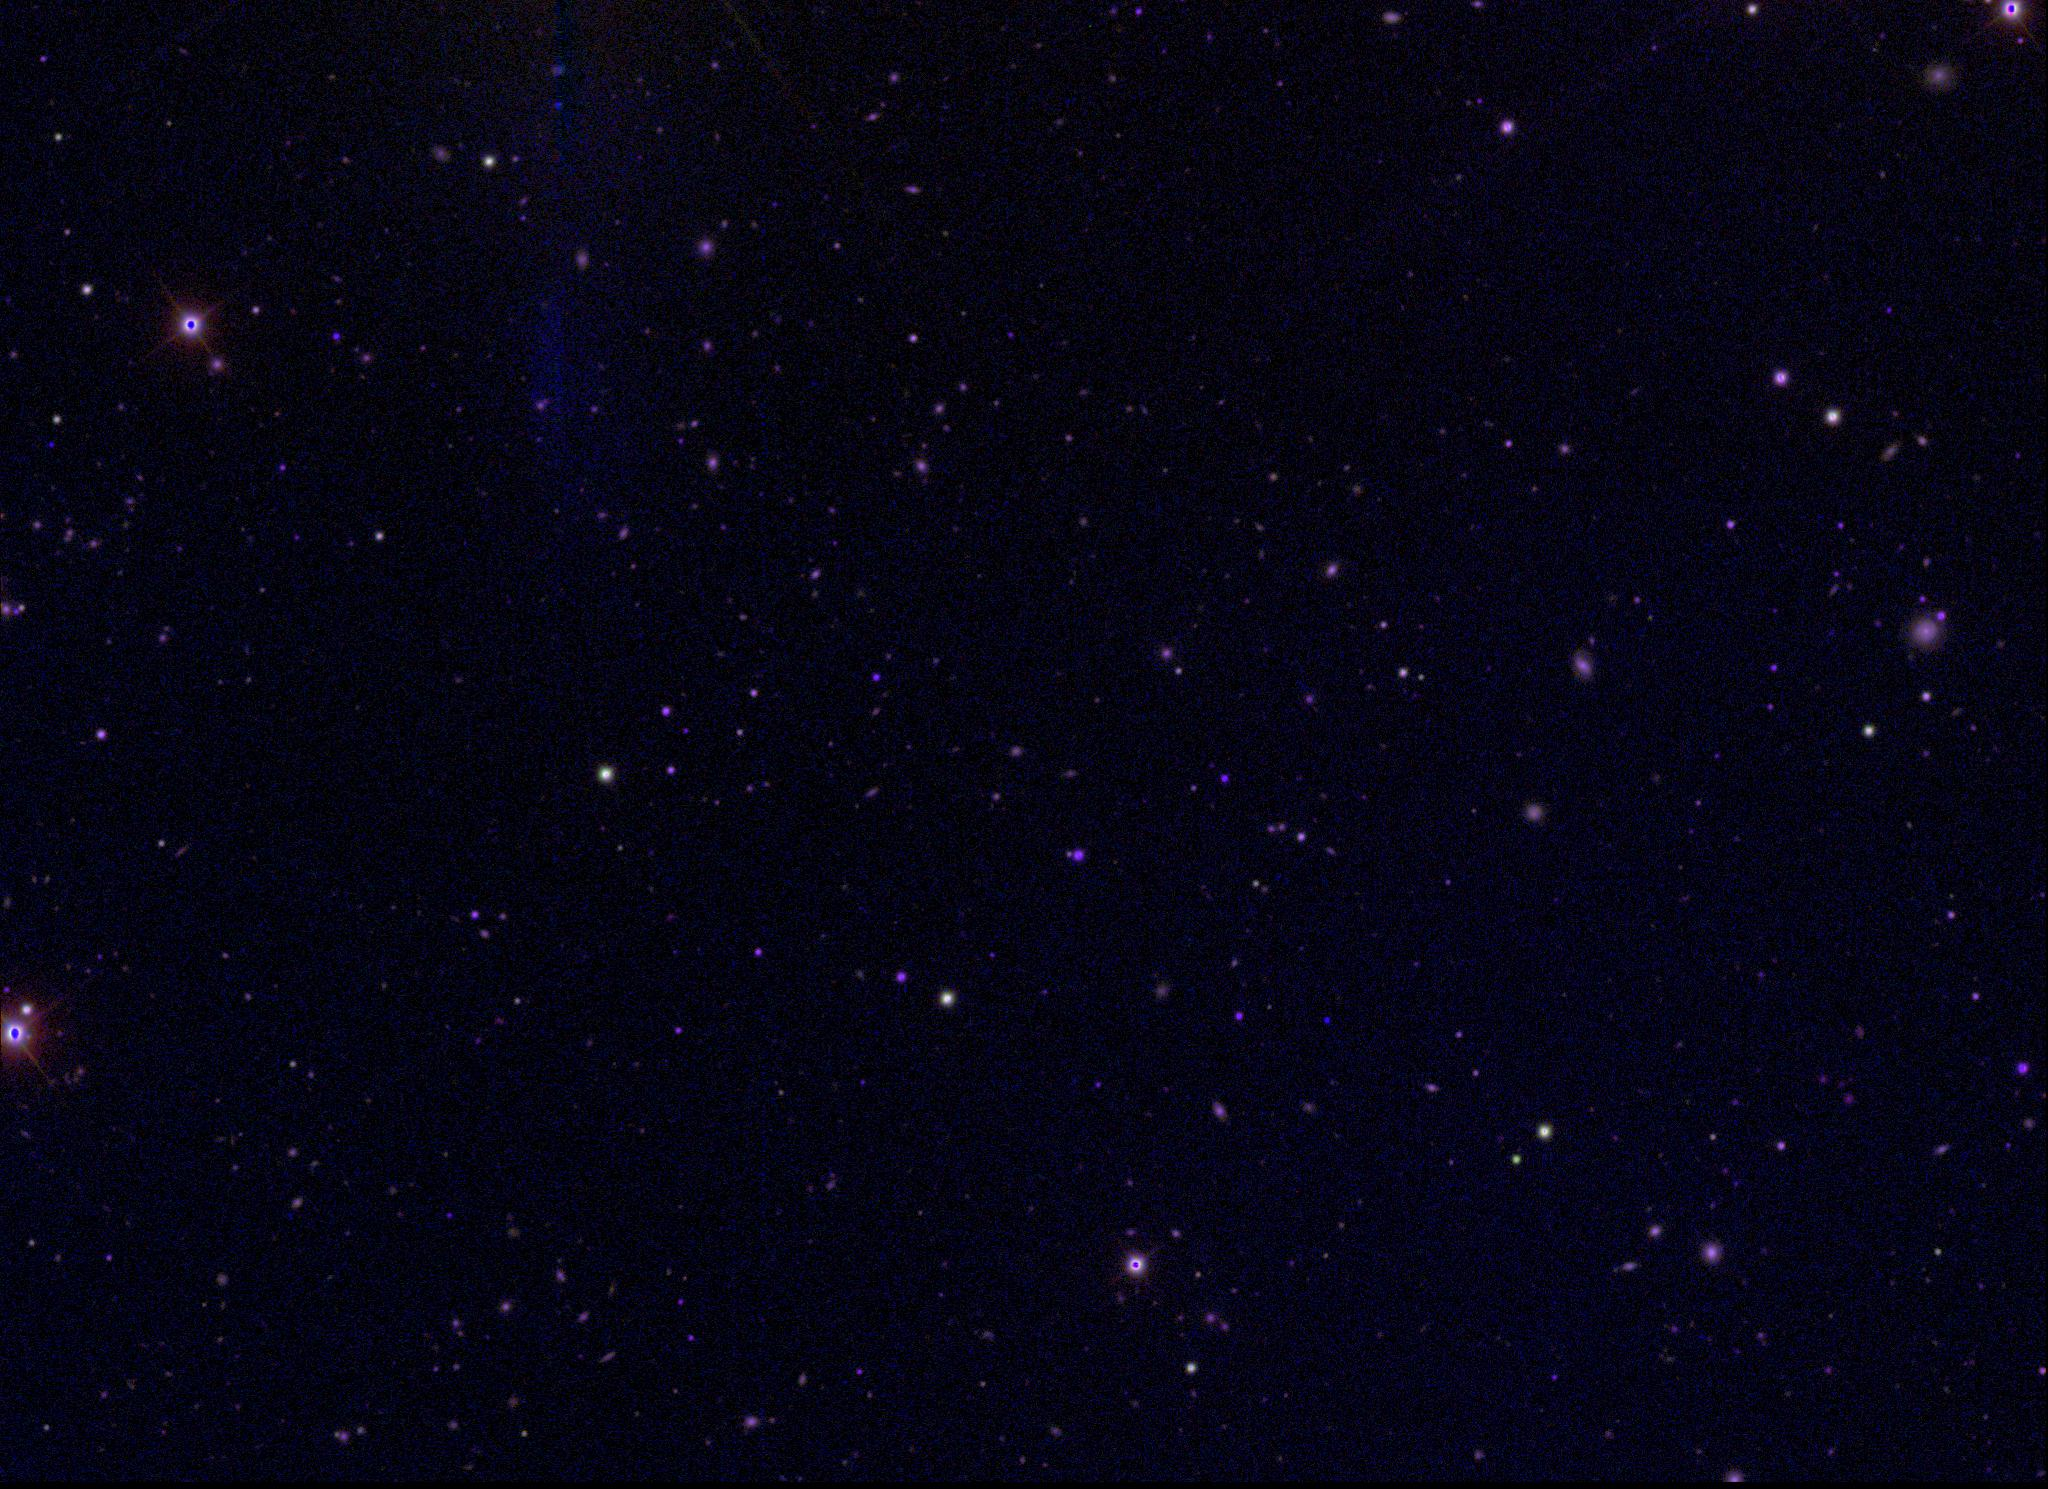L: (1321, 1013, 1336, 1028)
